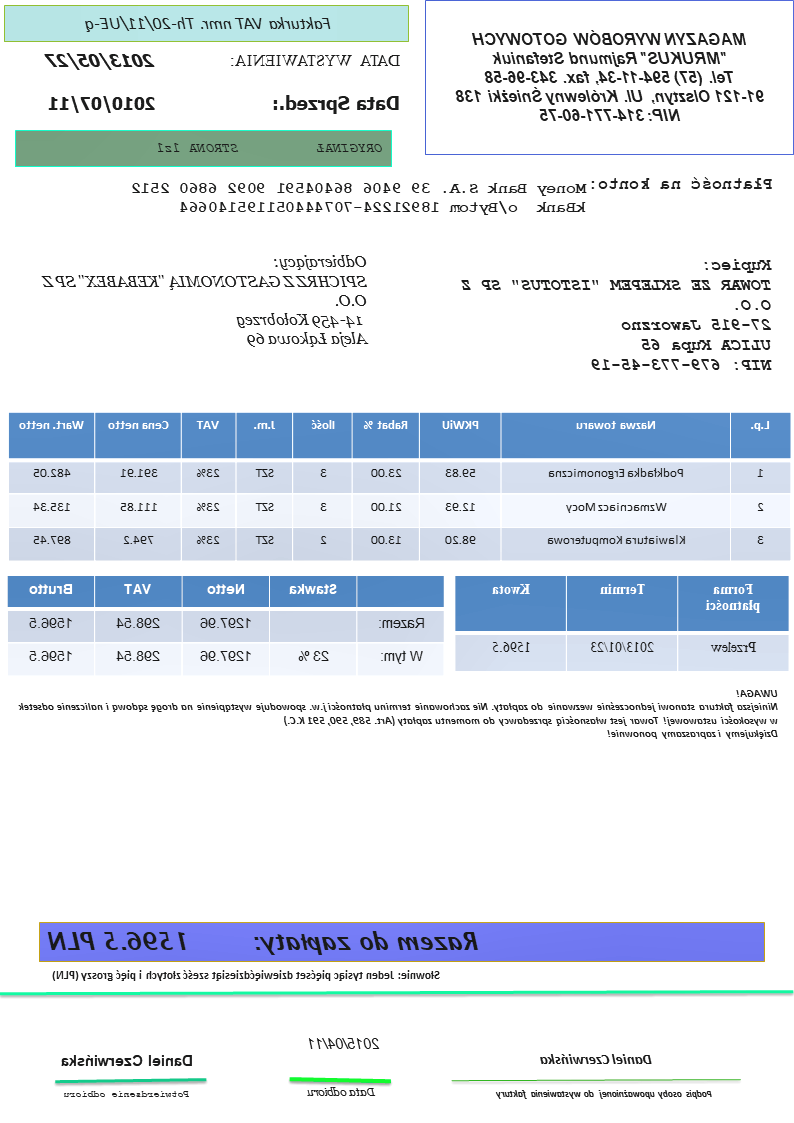Table: (3, 410, 793, 566), (6, 572, 445, 681), (453, 573, 790, 673)
TextBox: (16, 685, 784, 745), (457, 257, 776, 374), (39, 251, 371, 350), (448, 29, 770, 128), (129, 179, 588, 215), (44, 925, 485, 957), (49, 965, 445, 983), (81, 13, 336, 36), (153, 136, 384, 157), (228, 48, 404, 73), (586, 173, 778, 193), (493, 1086, 716, 1103), (270, 91, 403, 115), (59, 1051, 197, 1072), (42, 49, 162, 72), (45, 92, 160, 116), (60, 1086, 195, 1100), (538, 1050, 656, 1066), (307, 1034, 384, 1051), (304, 1085, 378, 1098)
